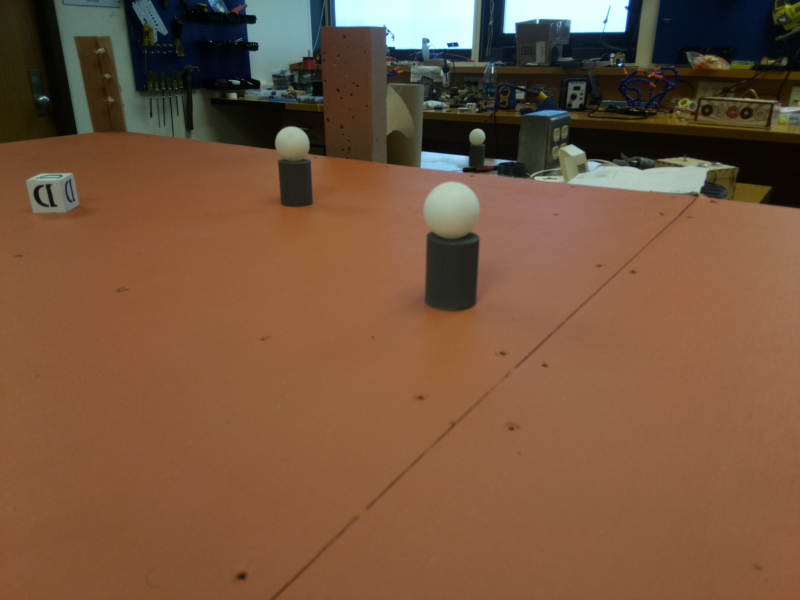blockD: (27, 169, 83, 224)
corner: (82, 33, 121, 134)
obstacle: (426, 178, 480, 314), (272, 123, 317, 210)
